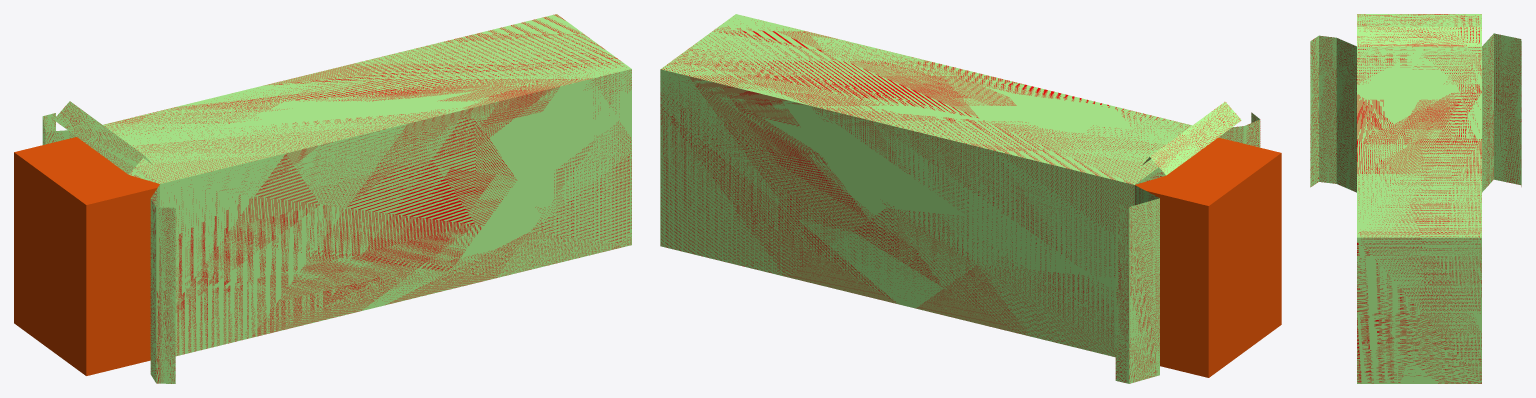
Rendered from platform.FBX.
3 views of the same model, side by side, from view 1: azimuth 30°, elevation 25°; view 2: azimuth 150°, elevation 25°; view 3: azimuth 270°, elevation 25° (orthographic). The views are drawn at different scales.
Visible parts, largest first — view 1: Tobogan_platform_box1_exterior, Tobogan_platform_box1_interior, Tobogan_platform_box2_exterior; view 2: Tobogan_platform_box1_exterior, Tobogan_platform_box1_interior, Tobogan_platform_box2_exterior; view 3: Tobogan_platform_box1_exterior, Tobogan_platform_box1_interior.
Boxes of the visible parts, box(x1,y1,x2,y2) form: Tobogan_platform_box1_exterior: box(42, 14, 631, 383); Tobogan_platform_box1_interior: box(43, 14, 631, 383); Tobogan_platform_box2_exterior: box(14, 137, 159, 375); Tobogan_platform_box1_exterior: box(660, 14, 1260, 383); Tobogan_platform_box1_interior: box(660, 21, 1260, 383); Tobogan_platform_box2_exterior: box(1135, 137, 1281, 377); Tobogan_platform_box1_exterior: box(1310, 14, 1521, 383); Tobogan_platform_box1_interior: box(1310, 14, 1521, 383).
Size of the model in its own units: 34742 by 12685 by 14077.
